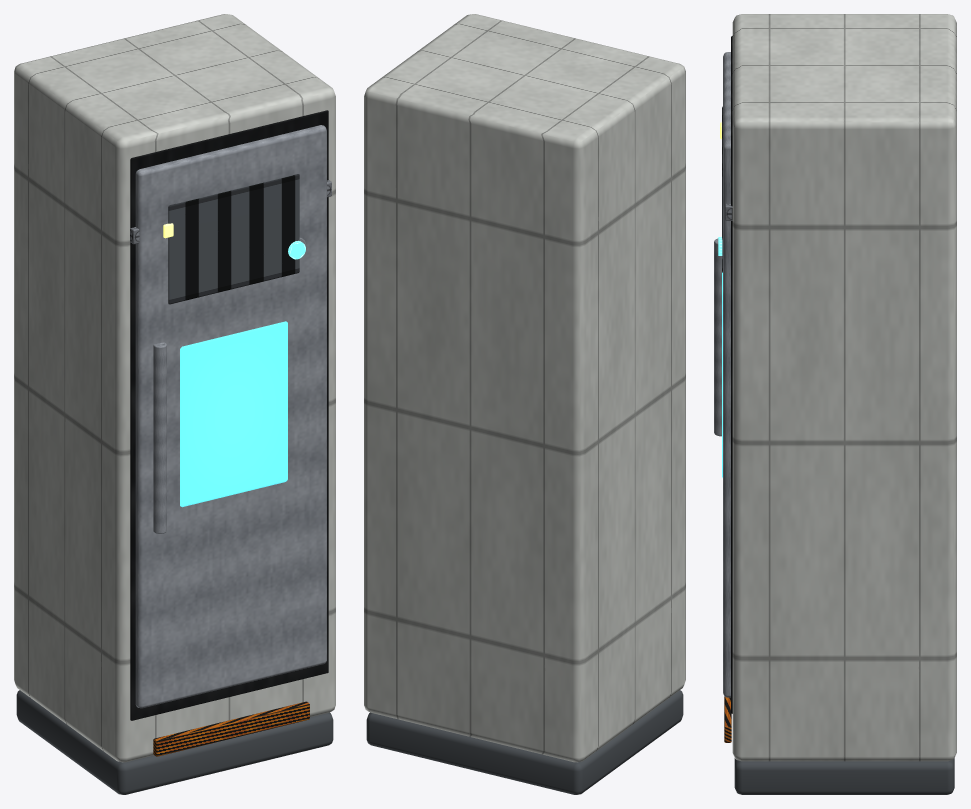
File: room_l1_img2_diagnostic_locker.glb
3 renders of one model, left to right at view 1: azimuth 30°, elevation 25°; view 2: azimuth 150°, elevation 25°; view 3: azimuth 270°, elevation 25°, orthographic. The views are drawn at different scales.
Visible parts, largest first — view 1: enamel_body, steel_door, door_diagnostic_screen, door_vent_top, contact_shadow_plinth, rubber_door_gasket, hazard_toe_strip, door_handle; view 2: enamel_body, contact_shadow_plinth; view 3: enamel_body, contact_shadow_plinth, steel_door, door_handle, rubber_door_gasket.
Part boxes in pixels (x1=…): enamel_body: x1=14, y1=14, x2=335, y2=762; steel_door: x1=135, y1=125, x2=326, y2=708; door_diagnostic_screen: x1=180, y1=321, x2=287, y2=507; door_vent_top: x1=168, y1=174, x2=299, y2=304; contact_shadow_plinth: x1=16, y1=690, x2=333, y2=794; rubber_door_gasket: x1=130, y1=110, x2=328, y2=720; hazard_toe_strip: x1=153, y1=701, x2=309, y2=756; door_handle: x1=153, y1=342, x2=166, y2=533; enamel_body: x1=364, y1=14, x2=685, y2=762; contact_shadow_plinth: x1=366, y1=690, x2=683, y2=794; enamel_body: x1=732, y1=14, x2=956, y2=761; contact_shadow_plinth: x1=734, y1=758, x2=954, y2=794; steel_door: x1=723, y1=52, x2=730, y2=697; door_handle: x1=714, y1=238, x2=721, y2=436; rubber_door_gasket: x1=731, y1=36, x2=732, y2=713.
Bounding box in the file's own units: 0.7 × 2 × 0.6493.
10 materials, 8 textured.
